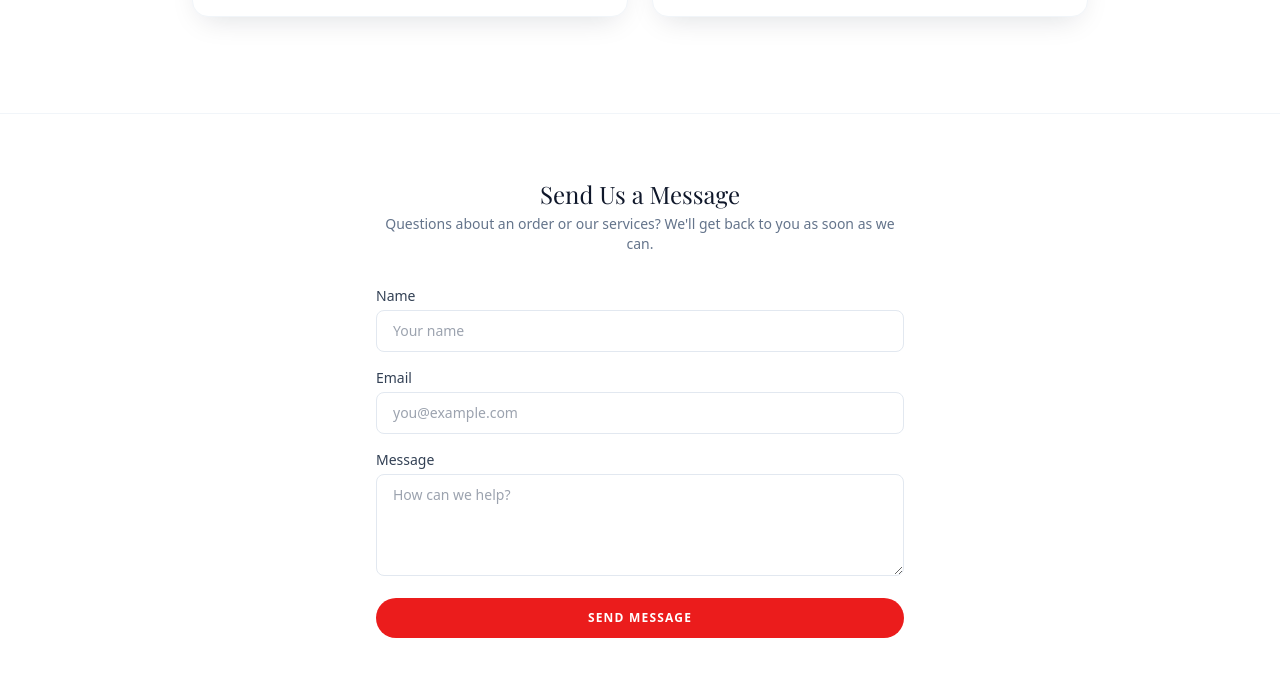
ContactPage › submits the message and shows a confirmation
(page scrolled)
In the field with placeholder "Your name": {"x": 640, "y": 331} [376, 310, 904, 352], type "Ama"
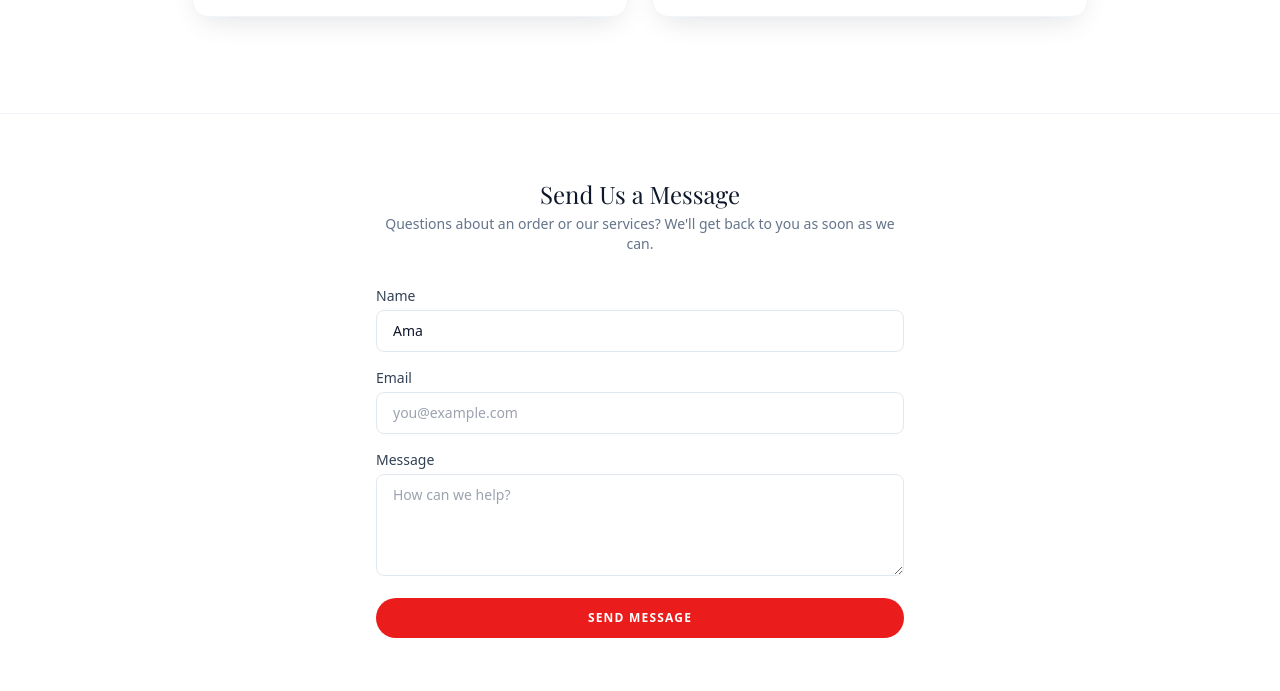
In the field with placeholder "you@example.com": {"x": 640, "y": 413} [376, 392, 904, 434], type "ama@example.com"
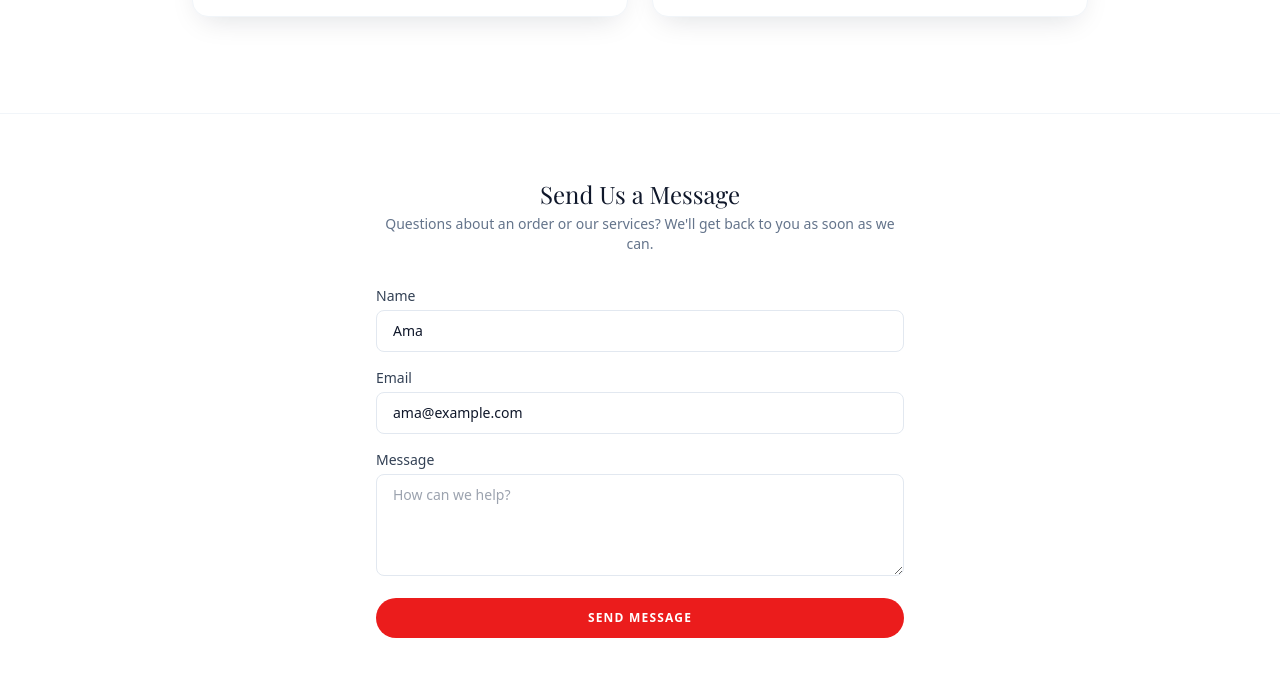
In the text box with placeholder "How can we help?": {"x": 640, "y": 525} [376, 474, 904, 576], type "Where is my order?"
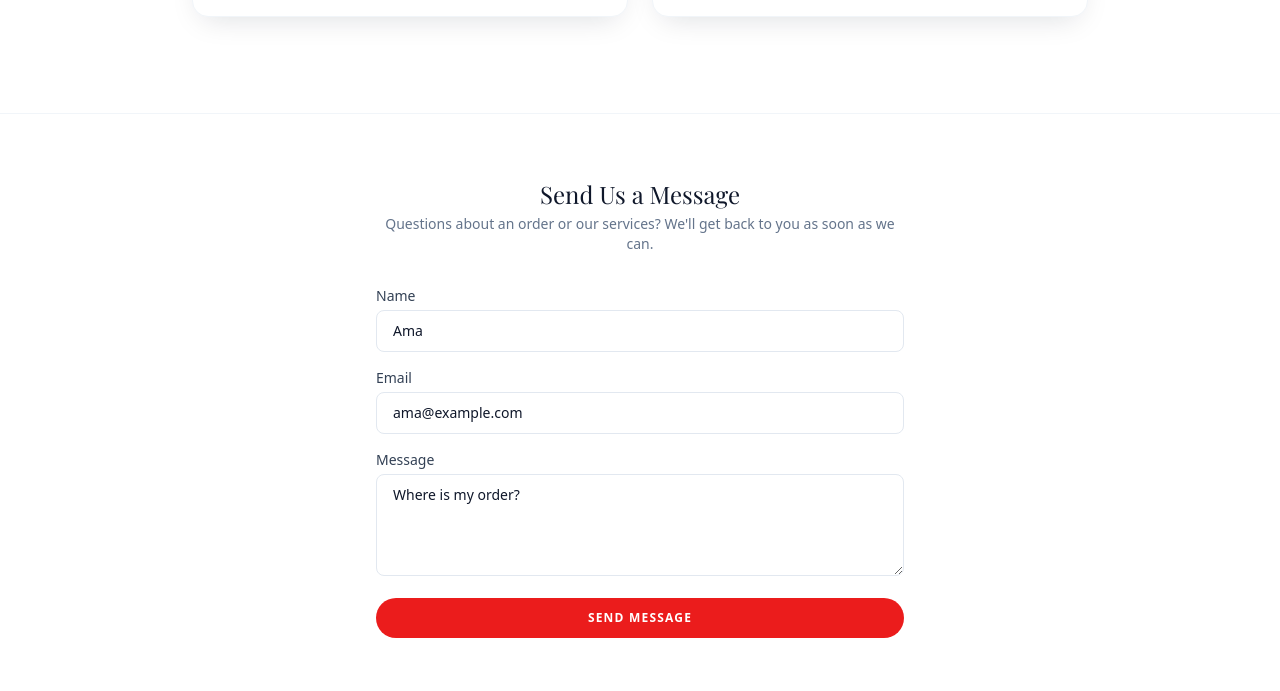
Submit the form, box [376, 286, 904, 638]
(page scrolled)
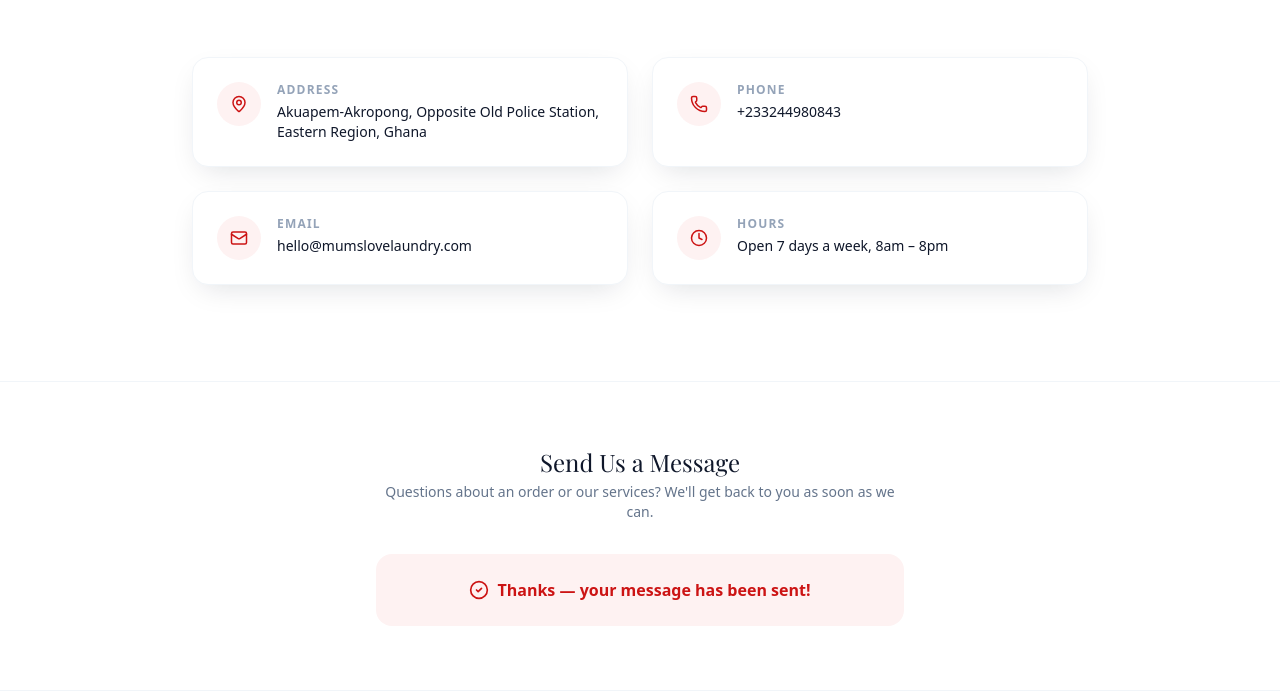
Now the text "Thanks — your message has been sent!" is shown, box [376, 554, 904, 626]
